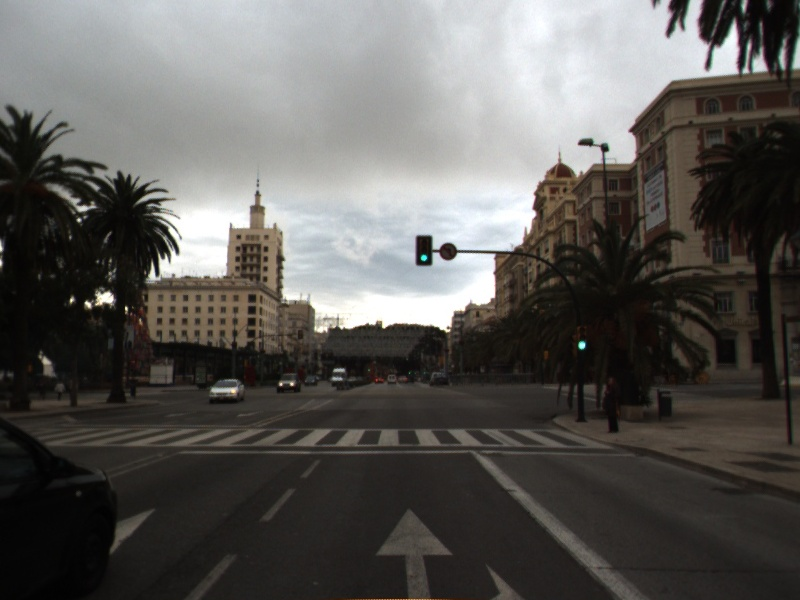STRAIGHT: (374, 505, 454, 600)
